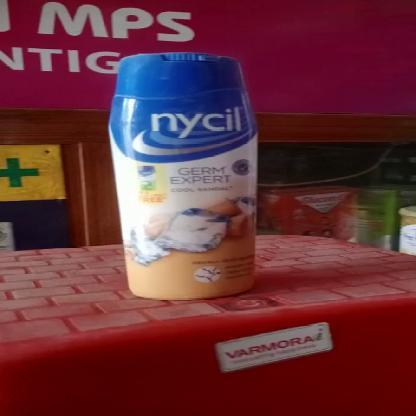Nycil Prickly Heat Powder: (114, 54, 262, 302)
